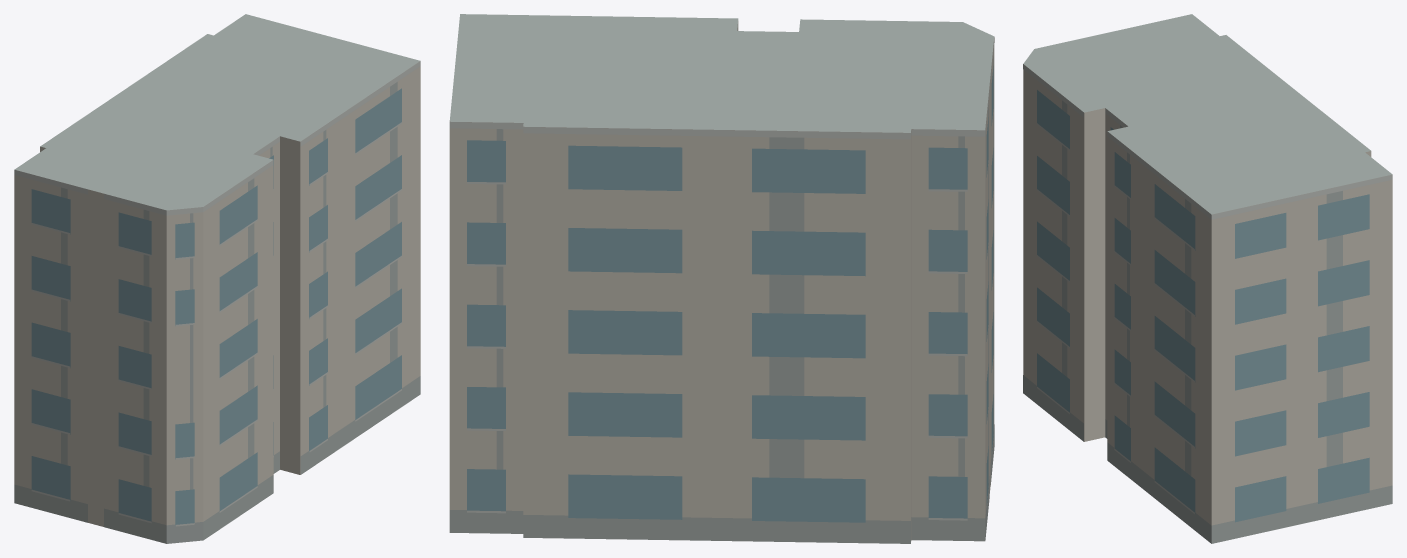
The model's file is survey-upis-32989714.glb.
3 renders of one model, left to right at view 1: azimuth 30°, elevation 25°; view 2: azimuth 150°, elevation 25°; view 3: azimuth 270°, elevation 25°, orthographic. The views are drawn at different scales.
Visible parts, largest first — view 1: survey-upis-32989714.tmp; view 2: survey-upis-32989714.tmp; view 3: survey-upis-32989714.tmp.
Part boxes in pixels (x1,y1,x2,y2): survey-upis-32989714.tmp: [14, 14, 420, 543]; survey-upis-32989714.tmp: [449, 14, 994, 543]; survey-upis-32989714.tmp: [1023, 14, 1392, 543].
Bounding box in the file's own units: 19.99 × 15.3 × 15.57.
